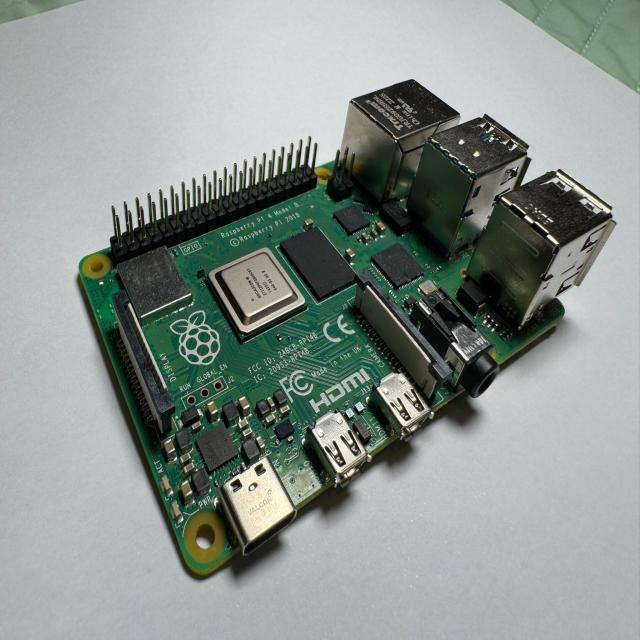CPU: (203, 250, 308, 345)
Ethernet: (340, 80, 462, 220)
GPIO: (109, 139, 318, 263)
RAM: (279, 222, 360, 304)
Raspberry: (77, 82, 616, 583)
micro-hdmi: (368, 374, 465, 463), (305, 413, 382, 490)
